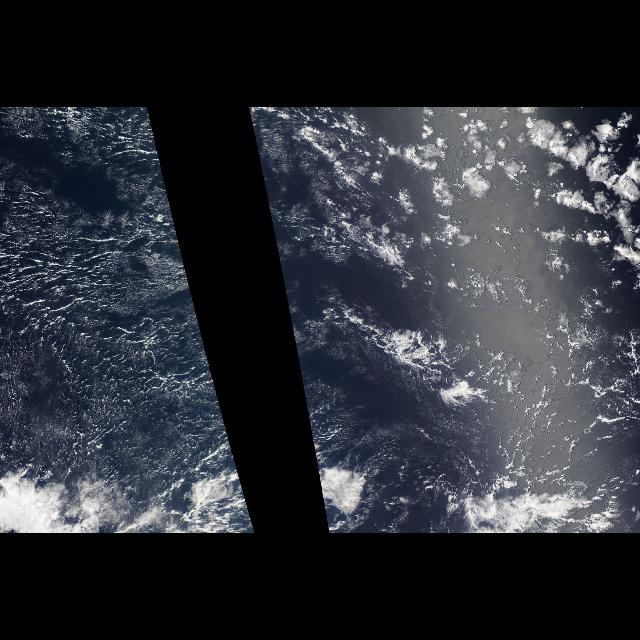Flower: (388, 112, 636, 320)
Sugar: (1, 127, 212, 469)
